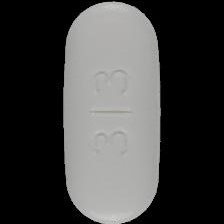49999-958: (0, 0, 224, 224)
